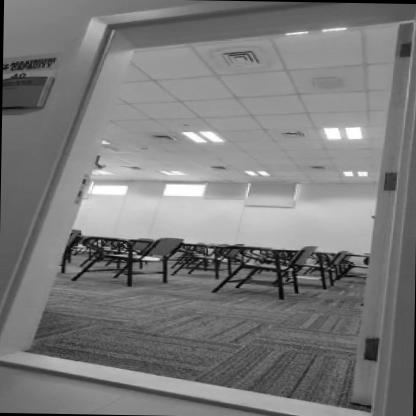open: (29, 6, 416, 416)
